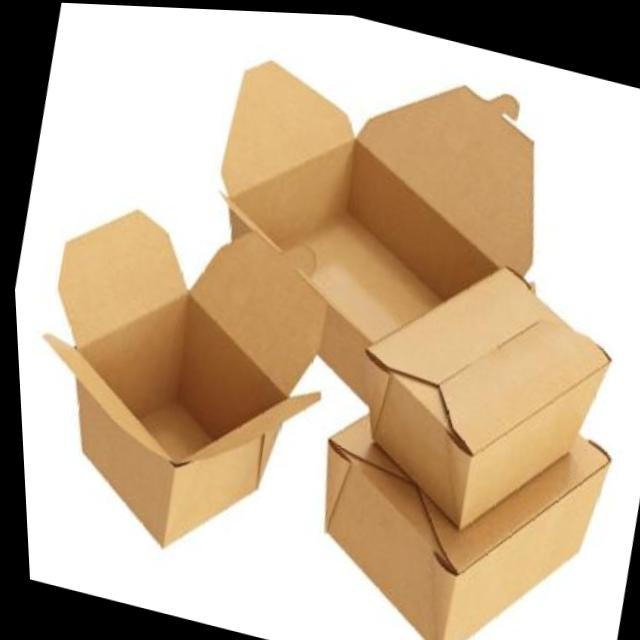box: (163, 17, 614, 430), (8, 201, 358, 578), (280, 373, 639, 640), (334, 246, 626, 547)
